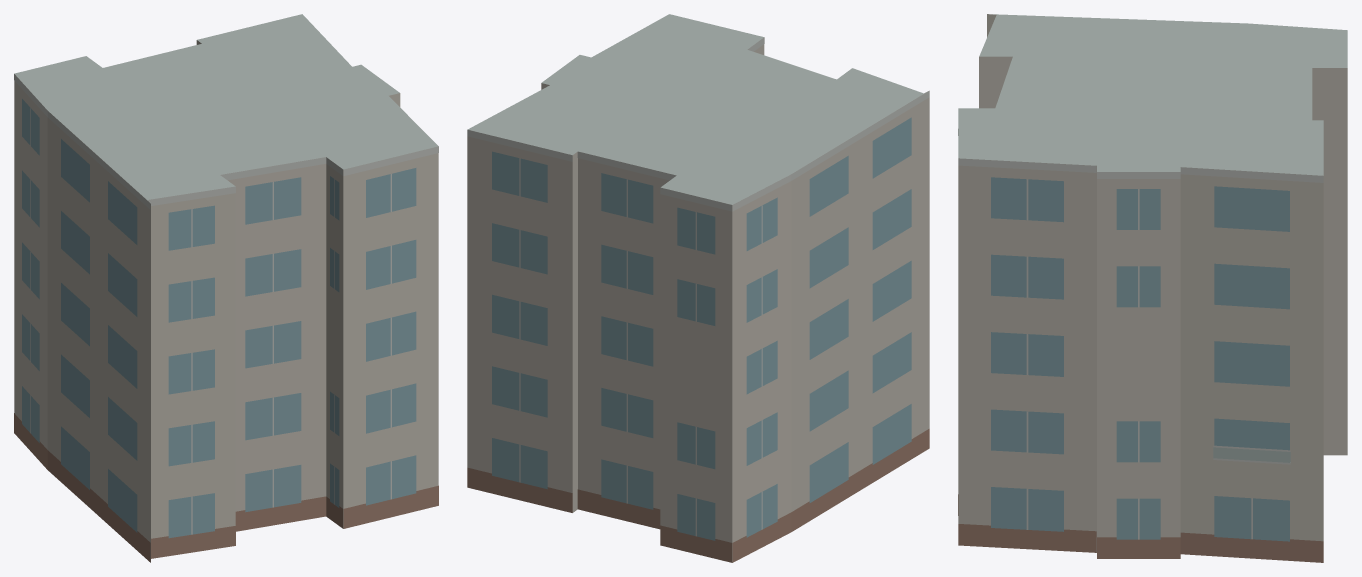
Rendered from survey-upis-32670745.glb.
3 renders of one model, left to right at view 1: azimuth 30°, elevation 25°; view 2: azimuth 150°, elevation 25°; view 3: azimuth 270°, elevation 25°, orthographic. The views are drawn at different scales.
Parts seen in each view (by area): view 1: survey-upis-32670745.tmp; view 2: survey-upis-32670745.tmp; view 3: survey-upis-32670745.tmp.
Part boxes in pixels (x1,y1,x2,y2): survey-upis-32670745.tmp: [14, 14, 438, 562]; survey-upis-32670745.tmp: [467, 14, 929, 562]; survey-upis-32670745.tmp: [958, 14, 1347, 562].
Size of the model in its own units: 11.75 by 13.1 by 11.96.
